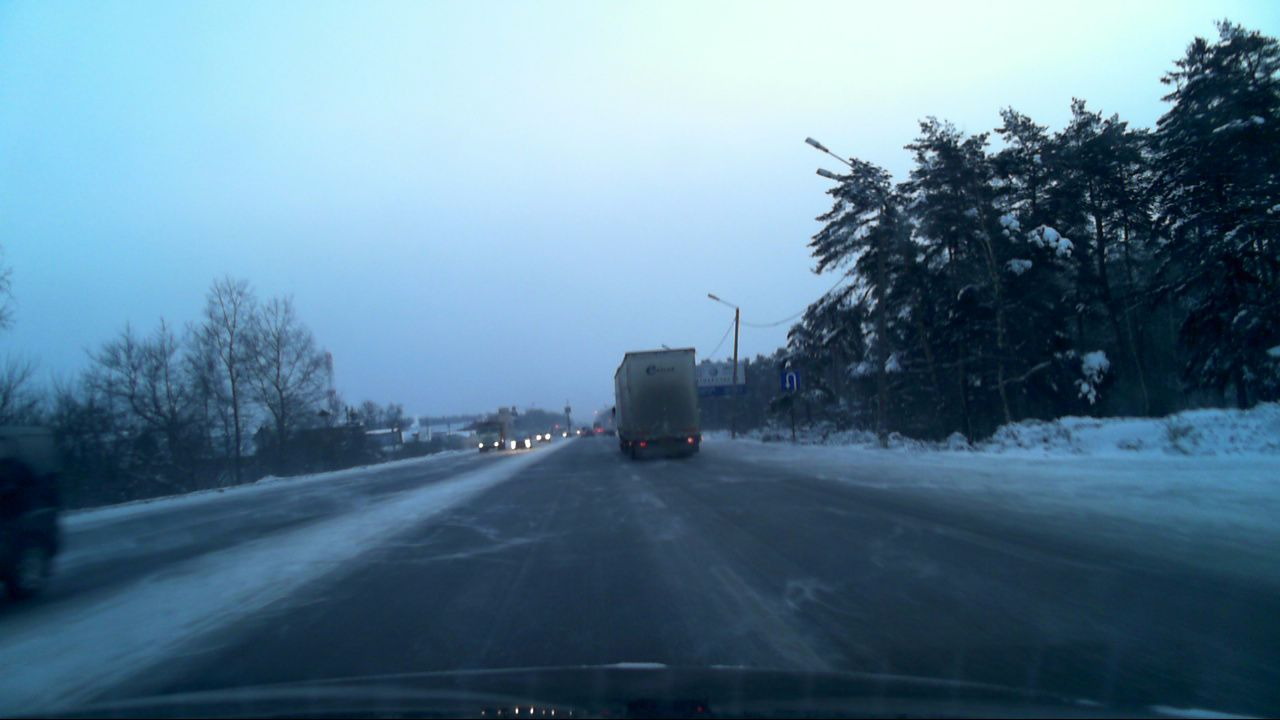U-turn: (780, 369, 802, 393)
